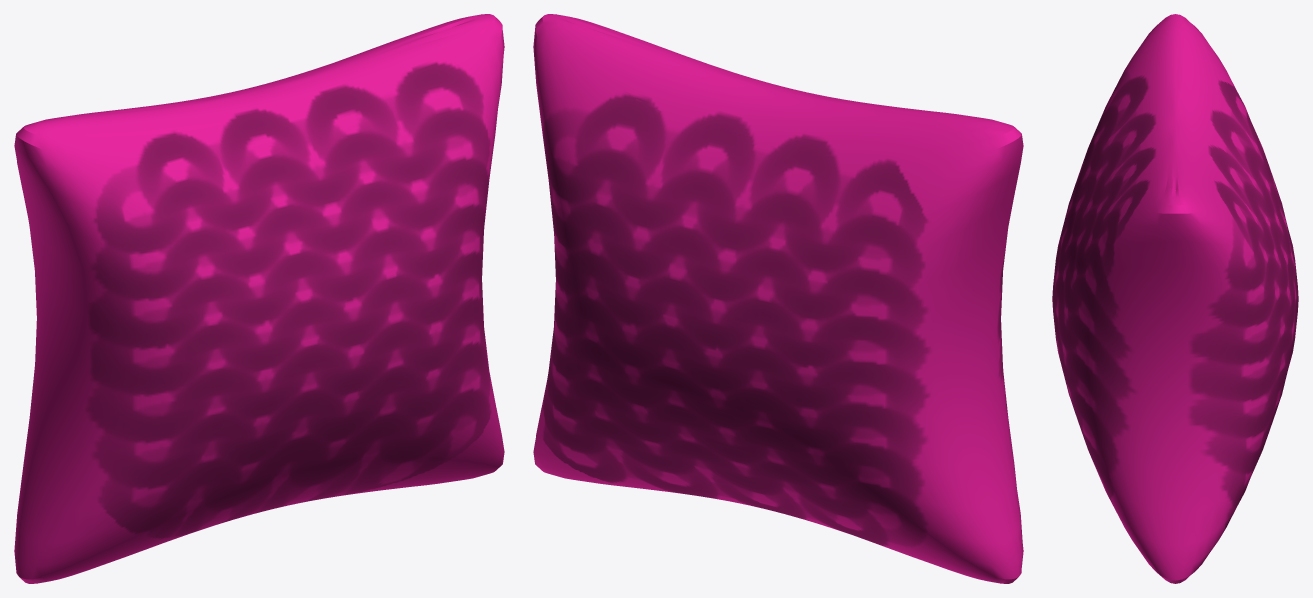
Rendered from PODUSHKA.obj.
The picture shows the model from 3 angles, left to right: view 1: azimuth 30°, elevation 25°; view 2: azimuth 150°, elevation 25°; view 3: azimuth 270°, elevation 25°; orthographic projection. The views are drawn at different scales.
Parts seen in each view (by area): view 1: Sphere001; view 2: Sphere001; view 3: Sphere001.
Part boxes in pixels (x1,y1,x2,y2): Sphere001: [14, 14, 504, 583]; Sphere001: [533, 14, 1023, 583]; Sphere001: [1052, 14, 1298, 583].
Bounding box in the file's own units: 117 × 107 × 62.26.
Materials: 1 (1 with a texture image).
